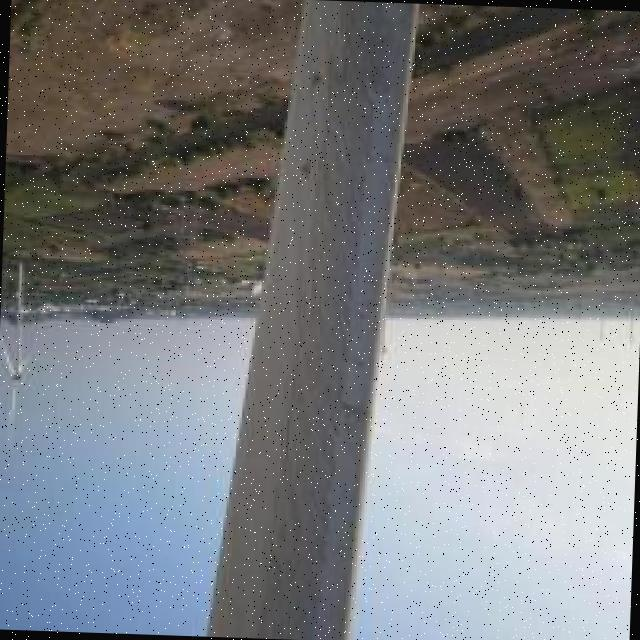Dirt: (218, 1, 420, 640)
Pin Hole: (295, 158, 314, 178), (308, 70, 322, 91)
